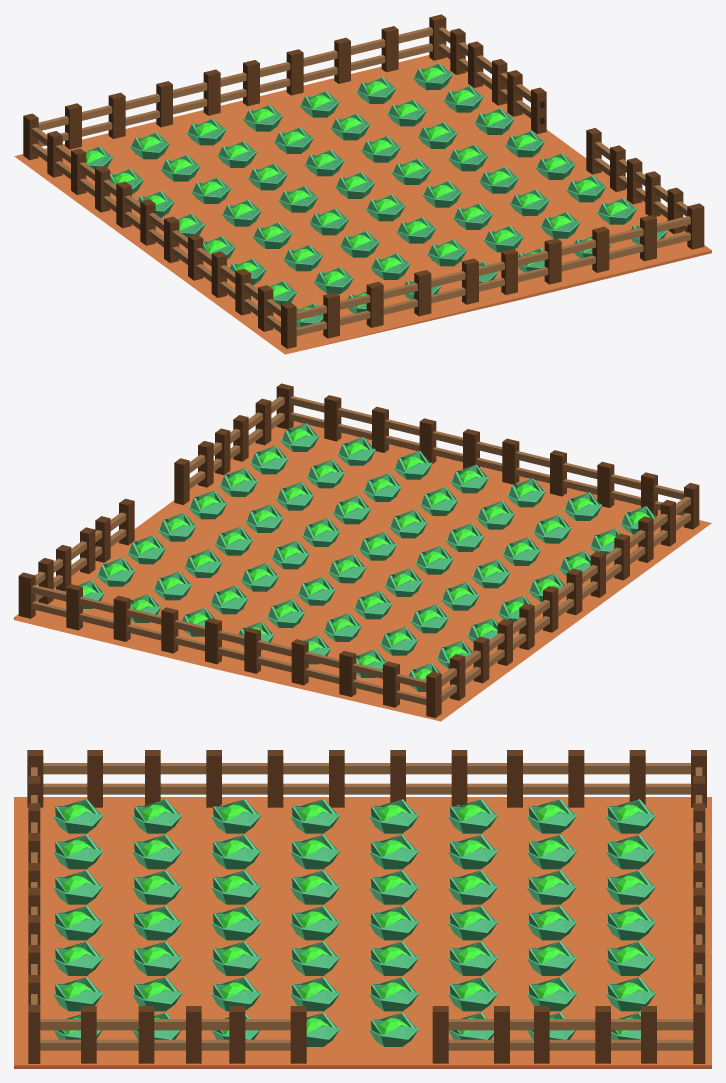
File: Tarla.fbx
3 renders of one model, top to bottom at view 1: azimuth 30°, elevation 25°; view 2: azimuth 150°, elevation 25°; view 3: azimuth 270°, elevation 25°, orthographic. The views are drawn at different scales.
Parts seen in each view (by area): view 1: Tarla; view 2: Tarla; view 3: Tarla.
Part boxes in pixels (x1=…): Tarla: x1=14, y1=14, x2=711, y2=354; Tarla: x1=14, y1=383, x2=711, y2=721; Tarla: x1=14, y1=750, x2=711, y2=1068.
Bounding box in the file's own units: 2227 × 223 × 2449.
